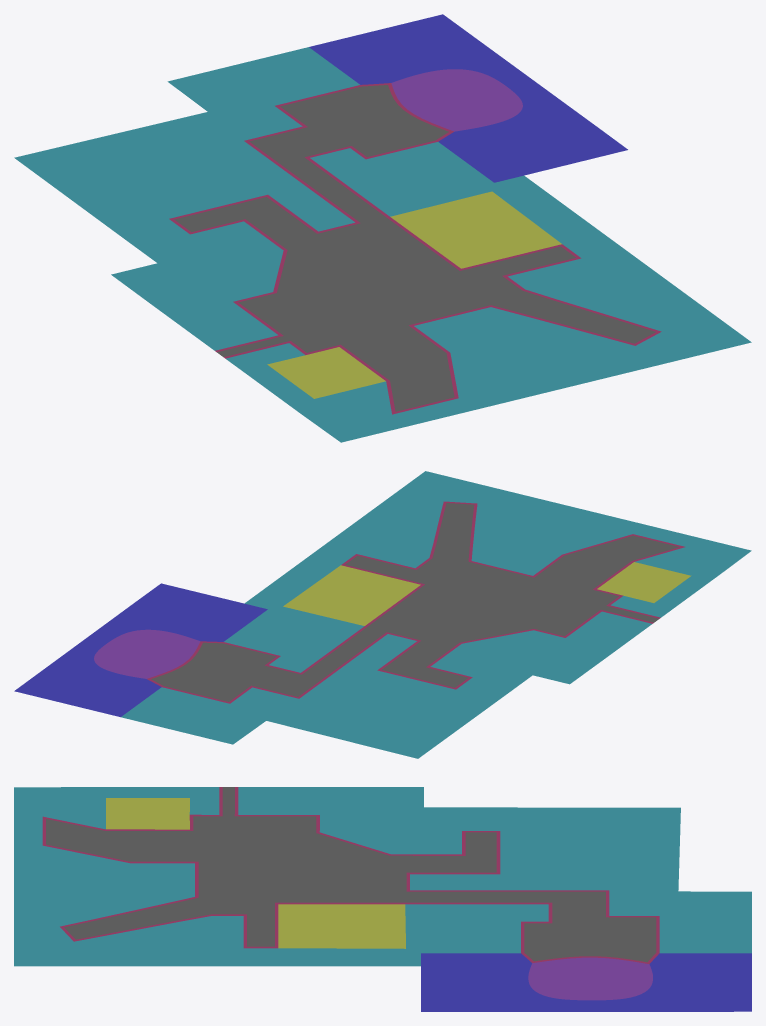
File: Advertising-Hell-TEST-FBX-1.fbx
3 renders of one model, top to bottom at view 1: azimuth 30°, elevation 25°; view 2: azimuth 150°, elevation 25°; view 3: azimuth 270°, elevation 25°, orthographic. The views are drawn at different scales.
Visible parts, largest first — view 1: World-Layout-CITY; view 2: World-Layout-CITY; view 3: World-Layout-CITY.
Boxes of the visible parts, bbox=[...] form: World-Layout-CITY: bbox=[14, 14, 751, 442]; World-Layout-CITY: bbox=[14, 471, 751, 758]; World-Layout-CITY: bbox=[14, 787, 751, 1011].
Size of the model in its own units: 30700 by 0 by 42575.
